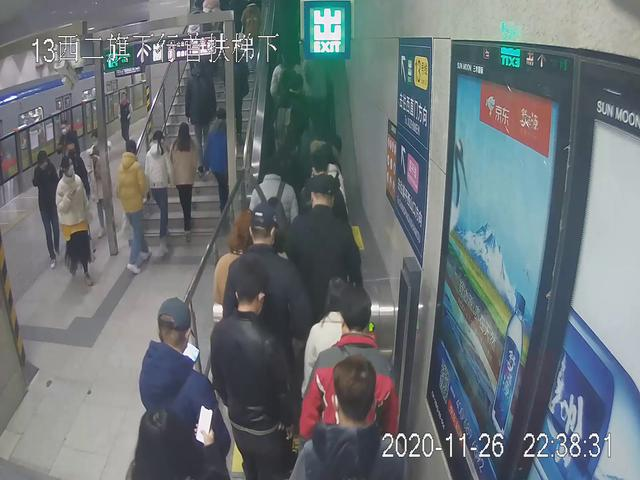person: (136, 298, 236, 480), (212, 256, 293, 477), (286, 175, 363, 319), (54, 154, 98, 282), (111, 141, 153, 271), (25, 149, 68, 268), (140, 129, 175, 251), (182, 58, 217, 175), (204, 111, 238, 227), (170, 120, 200, 238), (117, 84, 139, 152)
